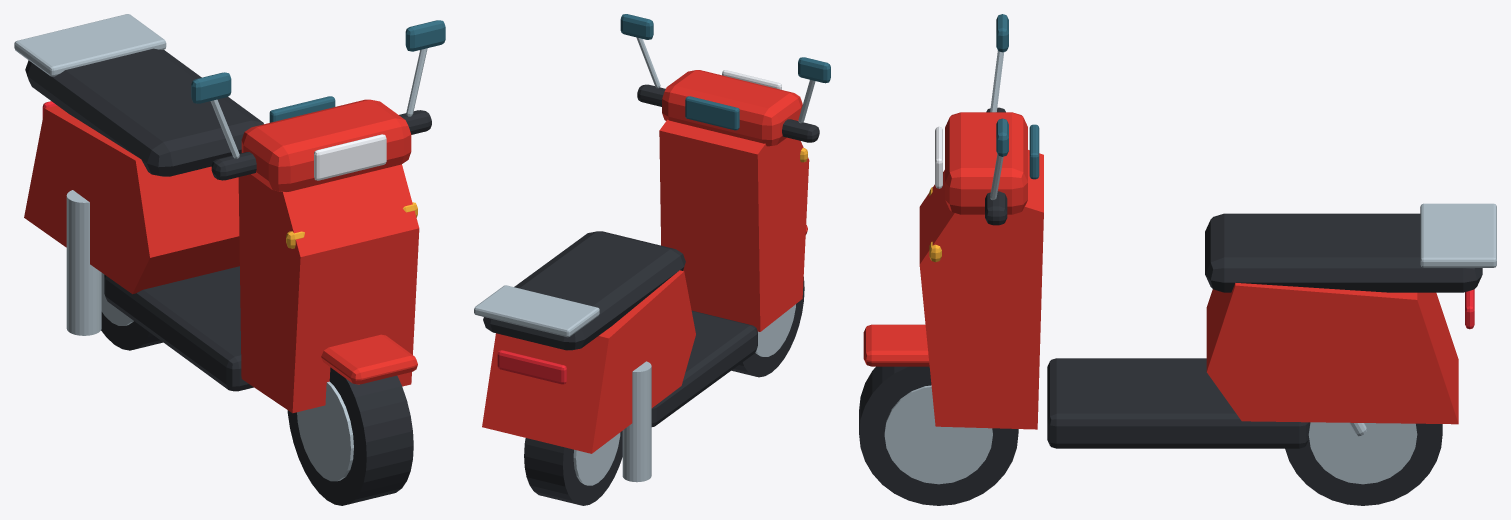
Rendered from taiwan-scooter-red.glb.
3 views of the same model, side by side, from view 1: azimuth 30°, elevation 25°; view 2: azimuth 150°, elevation 25°; view 3: azimuth 270°, elevation 25° (orthographic). The views are drawn at different scales.
Parts seen in each view (by area): view 1: Front fairing, Rear body, Two-place saddle, Step-through floor, Scooter tyre.001, Handlebar nacelle, Rear rack, Exhaust, Scooter alloy.002, Front fender, Headlamp, Scooter tyre (+8 smaller); view 2: Front fairing, Rear body, Two-place saddle, Handlebar nacelle, Step-through floor, Rear rack, Scooter tyre, Exhaust, Rear light, Scooter alloy, Scooter tyre.001, Instrument panel (+6 smaller); view 3: Rear body, Front fairing, Step-through floor, Two-place saddle, Scooter tyre.001, Handlebar nacelle, Scooter alloy.003, Scooter alloy.001, Rear rack, Scooter tyre, Front fender.
Part boxes in pixels (x1=…): Front fairing: x1=238, y1=164, x2=419, y2=413; Rear body: x1=24, y1=105, x2=239, y2=294; Two-place saddle: x1=25, y1=48, x2=263, y2=176; Step-through floor: x1=104, y1=266, x2=253, y2=391; Scooter tyre.001: x1=287, y1=367, x2=413, y2=505; Handlebar nacelle: x1=241, y1=99, x2=411, y2=192; Rear rack: x1=14, y1=14, x2=166, y2=76; Exhaust: x1=66, y1=190, x2=101, y2=335; Scooter alloy.002: x1=297, y1=381, x2=353, y2=481; Front fender: x1=321, y1=334, x2=417, y2=384; Headlamp: x1=314, y1=134, x2=386, y2=180; Scooter tyre: x1=101, y1=312, x2=162, y2=350; Front fairing: x1=659, y1=119, x2=809, y2=331; Rear body: x1=482, y1=270, x2=695, y2=453; Two-place saddle: x1=483, y1=231, x2=685, y2=350; Handlebar nacelle: x1=662, y1=70, x2=802, y2=146; Step-through floor: x1=651, y1=310, x2=757, y2=426; Rear rack: x1=474, y1=285, x2=599, y2=337; Scooter tyre: x1=524, y1=431, x2=622, y2=505; Exhaust: x1=622, y1=361, x2=651, y2=482; Rear light: x1=497, y1=350, x2=566, y2=384; Scooter alloy: x1=573, y1=432, x2=620, y2=485; Scooter tyre.001: x1=731, y1=277, x2=804, y2=377; Instrument panel: x1=685, y1=96, x2=739, y2=130; Rear body: x1=1206, y1=283, x2=1458, y2=424; Front fairing: x1=919, y1=150, x2=1043, y2=429; Step-through floor: x1=1047, y1=358, x2=1308, y2=448; Two-place saddle: x1=1205, y1=213, x2=1482, y2=292; Scooter tyre.001: x1=859, y1=366, x2=1018, y2=505; Handlebar nacelle: x1=945, y1=112, x2=1027, y2=214; Scooter alloy.003: x1=884, y1=385, x2=992, y2=484; Scooter alloy.001: x1=1308, y1=422, x2=1417, y2=484; Rear rack: x1=1420, y1=203, x2=1496, y2=267; Scooter tyre: x1=1285, y1=422, x2=1442, y2=505; Front fender: x1=863, y1=324, x2=929, y2=366.
Size of the model in its own units: 0.915 by 1.46 by 2.
